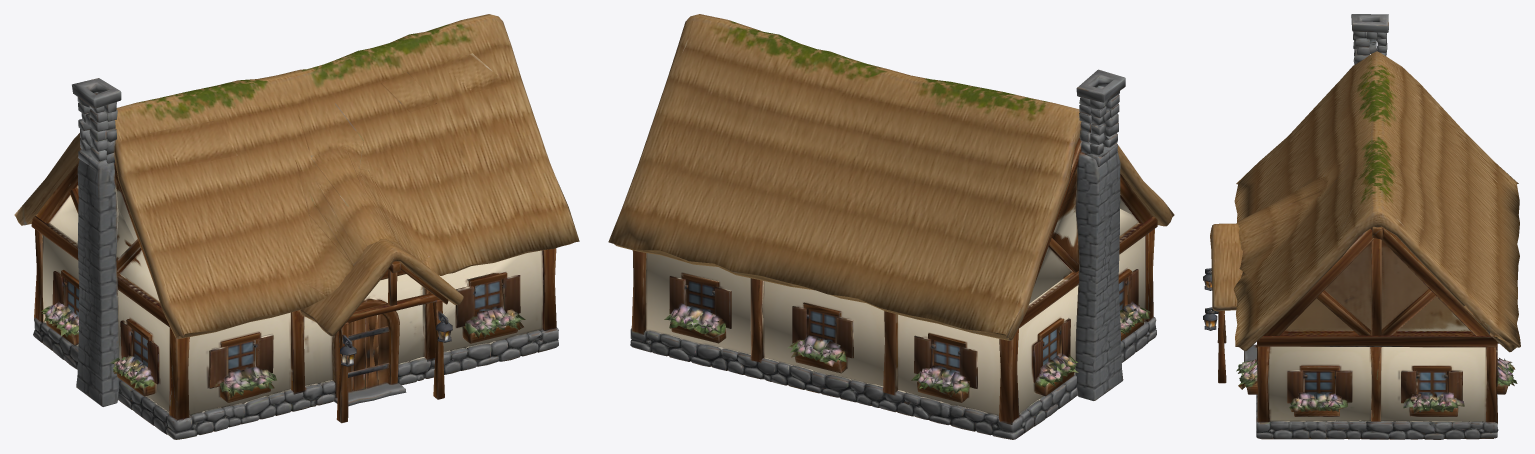
The model's file is OakHillHouse_Standard.glb.
3 renders of one model, left to right at view 1: azimuth 30°, elevation 25°; view 2: azimuth 150°, elevation 25°; view 3: azimuth 270°, elevation 25°, orthographic. The views are drawn at different scales.
Size of the model in its own units: 0.9565 by 0.6636 by 0.7305.
1 material, 1 textured.
